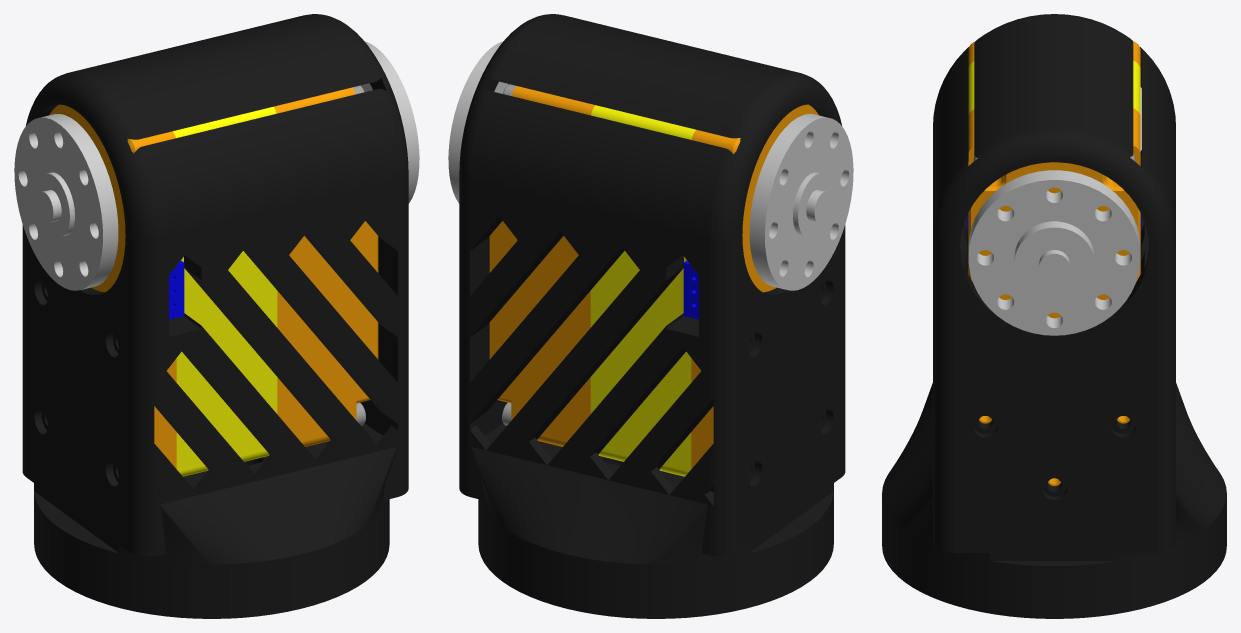
3 views of the same model, side by side, from view 1: azimuth 30°, elevation 25°; view 2: azimuth 150°, elevation 25°; view 3: azimuth 270°, elevation 25° (orthographic). The views are drawn at different scales.
Visible parts, largest first — view 1: Body2, Body5, Body1:14, Body1:13, Body1:4, Body2:1, Body1:2, Body1, Body1:12, Body1:11; view 2: Body2, Body5, Body1:14, Body1:13, Body1:4, Body1:2, Body2:1, Body1, Body1:12, Body1:6; view 3: Body2, Body5, Body1:14, Body1:12, Body2:1, Body1:2, Body1:4.
Boxes of the visible parts, bbox=[...] form: Body2: bbox=[22, 175, 408, 507]; Body5: bbox=[26, 14, 408, 241]; Body1:14: bbox=[34, 447, 396, 618]; Body1:13: bbox=[14, 114, 118, 290]; Body1:4: bbox=[173, 106, 277, 476]; Body2:1: bbox=[22, 423, 408, 561]; Body1:2: bbox=[274, 87, 378, 446]; Body1: bbox=[48, 82, 176, 468]; Body1:12: bbox=[360, 41, 419, 203]; Body1:11: bbox=[169, 260, 184, 319]; Body2: bbox=[459, 175, 845, 507]; Body5: bbox=[459, 14, 841, 241]; Body1:14: bbox=[471, 447, 833, 618]; Body1:13: bbox=[749, 114, 853, 290]; Body1:4: bbox=[590, 105, 695, 476]; Body1:2: bbox=[489, 84, 595, 446]; Body2:1: bbox=[459, 423, 845, 561]; Body1: bbox=[691, 82, 819, 468]; Body1:12: bbox=[448, 41, 507, 203]; Body1:6: bbox=[683, 260, 698, 319]; Body2: bbox=[933, 150, 1175, 505]; Body5: bbox=[933, 14, 1175, 247]; Body1:14: bbox=[882, 383, 1226, 618]; Body1:12: bbox=[968, 170, 1140, 335]; Body2:1: bbox=[933, 497, 1175, 560]; Body1:2: bbox=[968, 108, 1140, 486]; Body1:4: bbox=[968, 61, 1140, 115].
Size of the model in its own units: 68.3 by 91.26 by 59.93.
